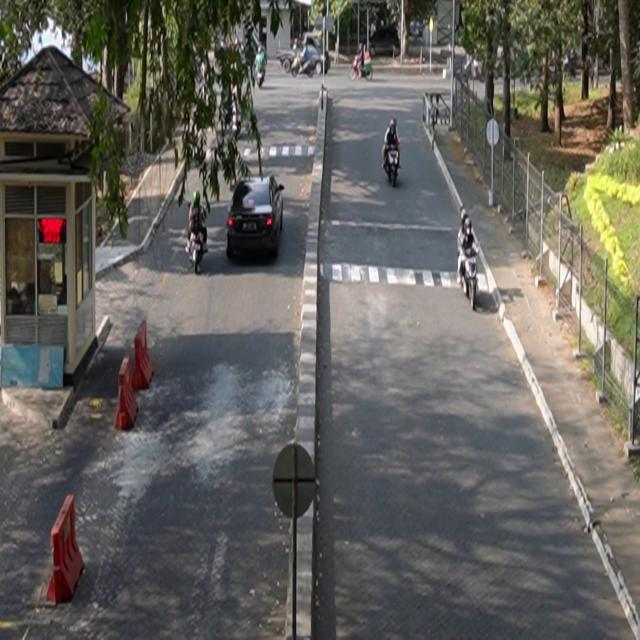car: (227, 175, 285, 261)
